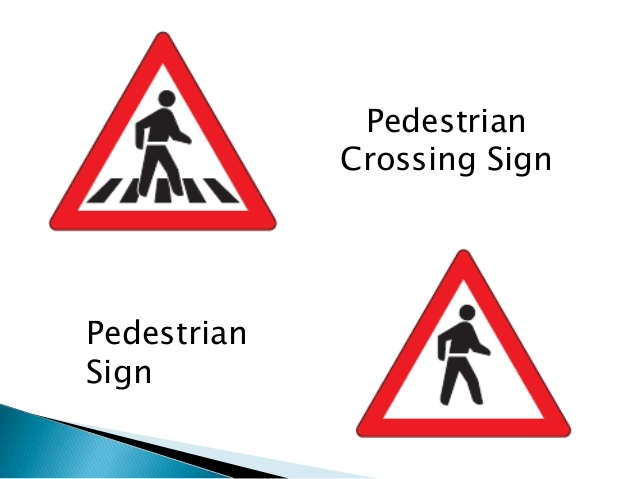pedestrian: (59, 55, 272, 232), (371, 271, 552, 435)
